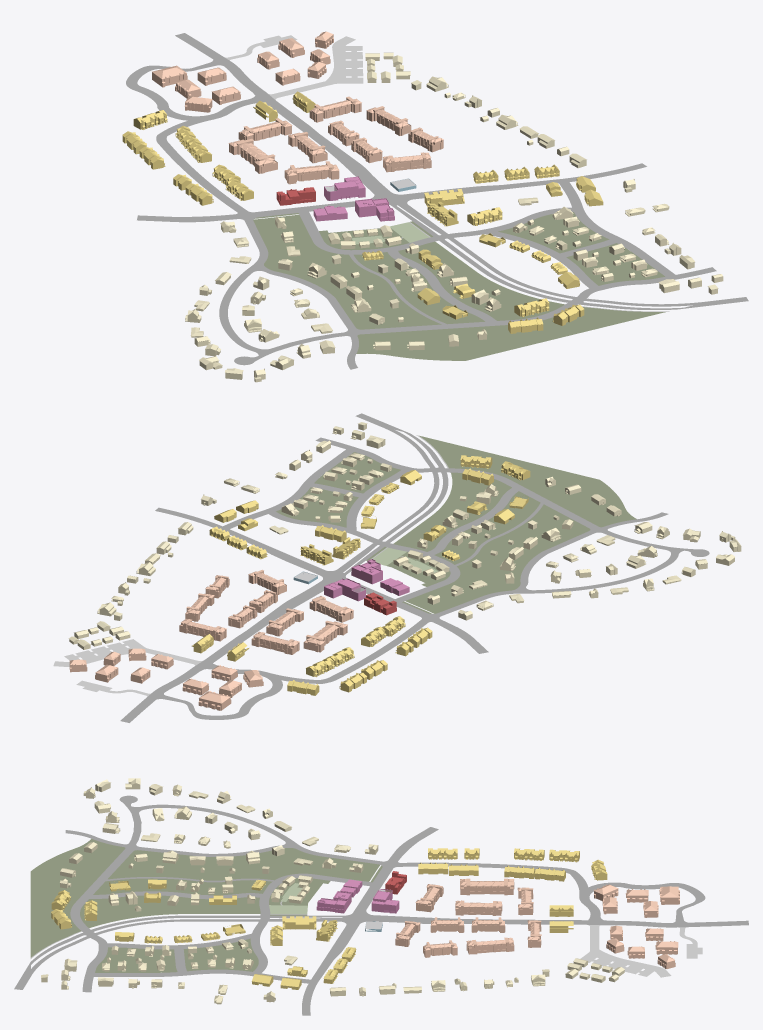
The model's file is Neighborhood1_CC.glb.
3 views of the same model, one above another, from view 1: azimuth 30°, elevation 25°; view 2: azimuth 150°, elevation 25°; view 3: azimuth 270°, elevation 25° (orthographic). The views are drawn at different scales.
Visible parts, largest first — view 1: Group1; view 2: Group1; view 3: Group1, livework02_1_1, Component_223_13.
Part boxes in pixels (bbox=[...]): Group1: bbox=[126, 33, 748, 369]; Group1: bbox=[53, 413, 709, 722]; Group1: bbox=[14, 795, 748, 1015]; livework02_1_1: bbox=[282, 916, 316, 929]; Component_223_13: bbox=[487, 878, 514, 895].
Size of the model in its own units: 2209 by 46.44 by 2896.
